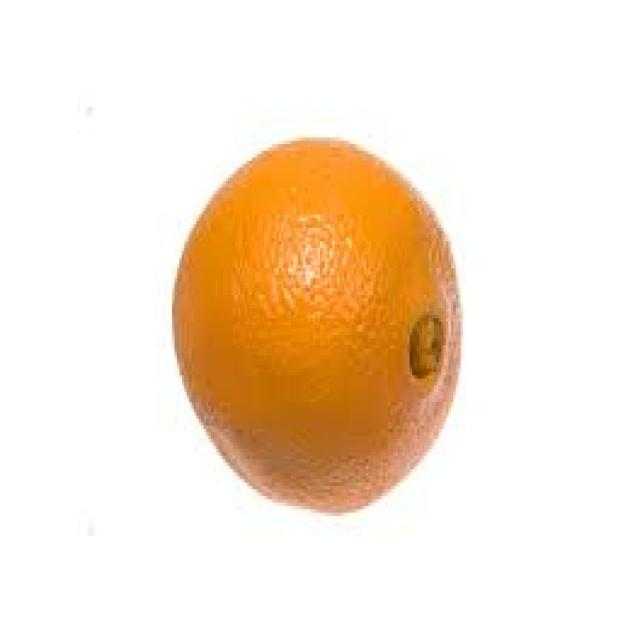Good_Orange: (172, 137, 463, 516)
